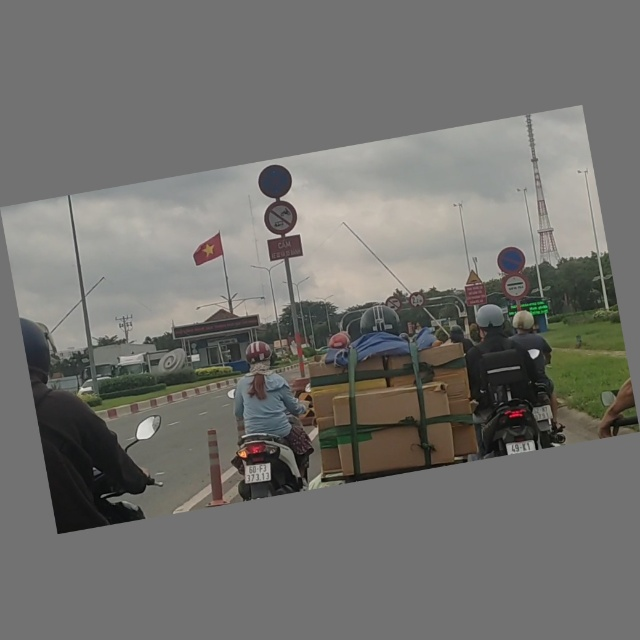P.107: (384, 296, 402, 314)
P.111: (261, 199, 299, 237)
P.117*: (408, 291, 427, 310)
P.129: (500, 272, 531, 302)
P.130: (256, 163, 295, 201)
P.131a: (495, 245, 528, 276)
W.221b: (464, 268, 483, 287)
